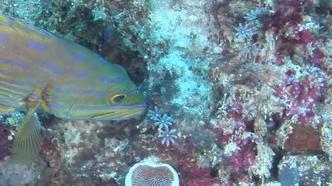Serranidae -Groupers-: (0, 0, 147, 163)
